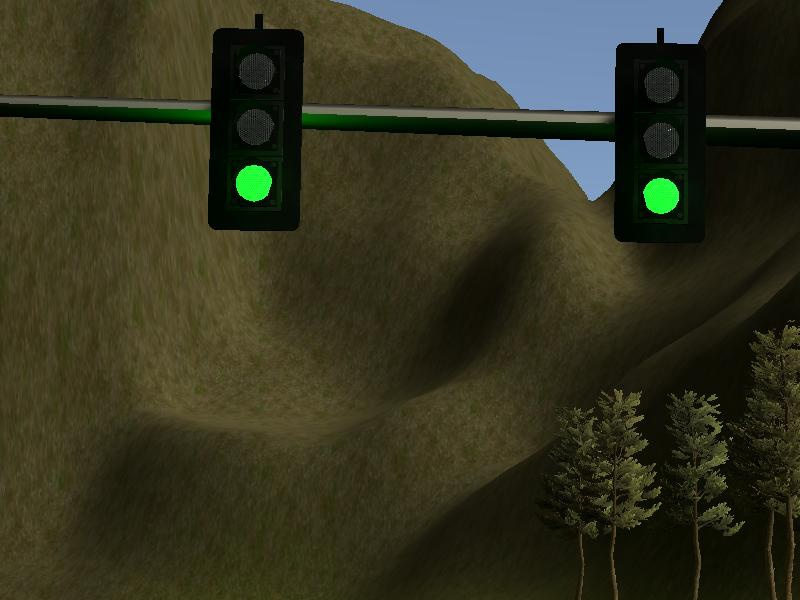Green: (206, 28, 304, 233), (611, 42, 707, 242)
